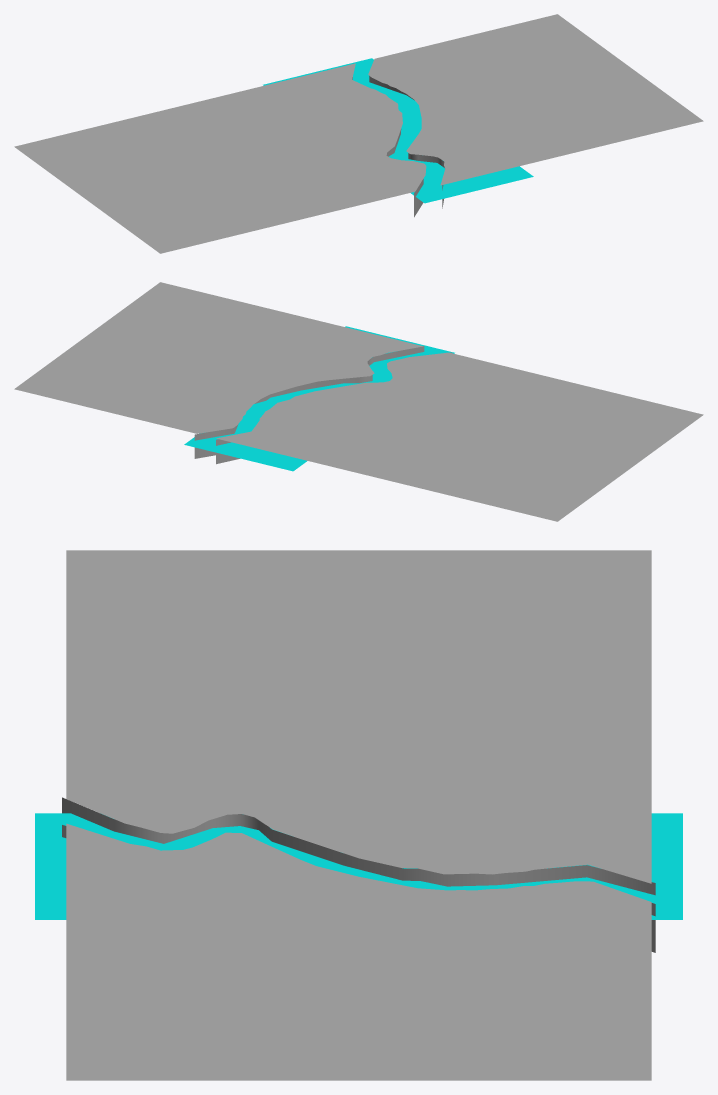
The model's file is land.fbx.
3 views of the same model, one above another, from view 1: azimuth 30°, elevation 25°; view 2: azimuth 150°, elevation 25°; view 3: azimuth 270°, elevation 25° (orthographic). The views are drawn at different scales.
Visible parts, largest first — view 1: polySurface16, polySurface12, polySurface13, polySurface15, polySurface27, polySurface11, polySurface20, polySurface25, river, polySurface9, polySurface31, polySurface28 (+8 smaller); view 2: polySurface16, polySurface12, polySurface13, polySurface15, polySurface27, polySurface11, polySurface20, polySurface25, polySurface9, polySurface31, polySurface28, river (+8 smaller); view 3: polySurface16, polySurface12, polySurface13, polySurface15, polySurface27, polySurface11, polySurface20, polySurface25, polySurface9, polySurface31, polySurface28, polySurface24 (+8 smaller).
Part boxes in pixels (x1,y1,x2,y2): polySurface16: [93, 91, 289, 171]; polySurface12: [241, 63, 398, 136]; polySurface13: [176, 175, 332, 239]; polySurface15: [147, 136, 299, 203]; polySurface27: [470, 63, 580, 131]; polySurface11: [290, 110, 402, 177]; polySurface20: [14, 127, 146, 189]; polySurface25: [485, 108, 620, 165]; river: [263, 58, 533, 203]; polySurface9: [296, 156, 426, 212]; polySurface31: [548, 52, 663, 111]; polySurface28: [431, 28, 543, 81]; polySurface16: [330, 426, 540, 502]; polySurface12: [216, 399, 398, 466]; polySurface13: [475, 373, 645, 433]; polySurface15: [399, 404, 593, 460]; polySurface27: [122, 333, 291, 387]; polySurface11: [290, 381, 479, 425]; polySurface20: [479, 461, 615, 521]; polySurface25: [196, 302, 341, 356]; polySurface9: [387, 352, 533, 402]; polySurface31: [66, 311, 199, 366]; polySurface28: [71, 369, 195, 419]; river: [184, 326, 454, 471]; polySurface16: [417, 622, 651, 772]; polySurface12: [417, 759, 651, 883]; polySurface13: [66, 607, 254, 738]; polySurface15: [254, 611, 417, 761]; polySurface27: [242, 909, 463, 1021]; polySurface11: [242, 726, 417, 868]; polySurface20: [417, 550, 651, 626]; polySurface25: [66, 902, 241, 1008]; polySurface9: [66, 716, 241, 833]; polySurface31: [225, 1003, 444, 1080]; polySurface28: [463, 942, 651, 1024]; polySurface24: [242, 833, 444, 948].
Size of the model in its own units: 37.95 by 1.65 by 19.59.
